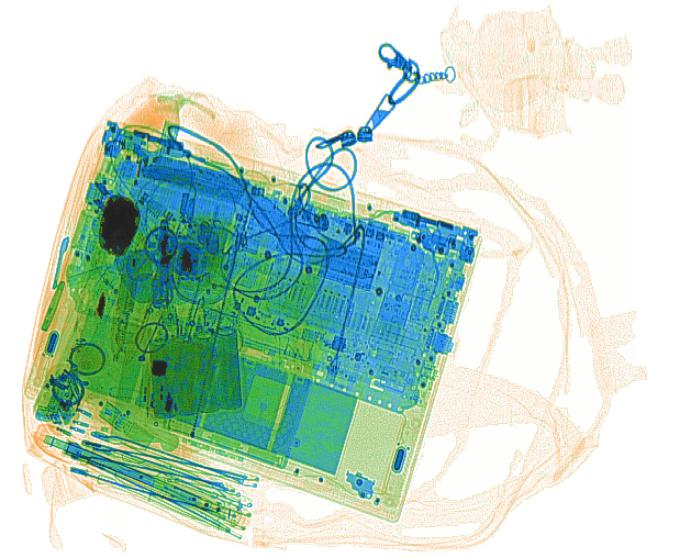USBFlashDisk: (98, 398, 153, 450)
battery: (147, 312, 244, 420)
